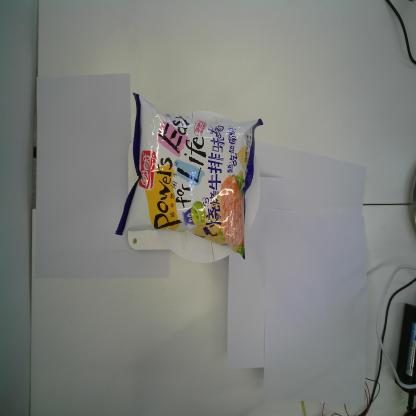Puffed Food: (113, 90, 266, 264)
